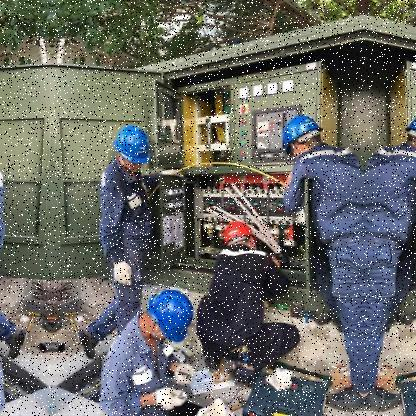Helmet: (144, 286, 196, 350), (276, 114, 331, 168), (110, 125, 155, 176), (217, 218, 263, 256), (398, 116, 415, 167)
